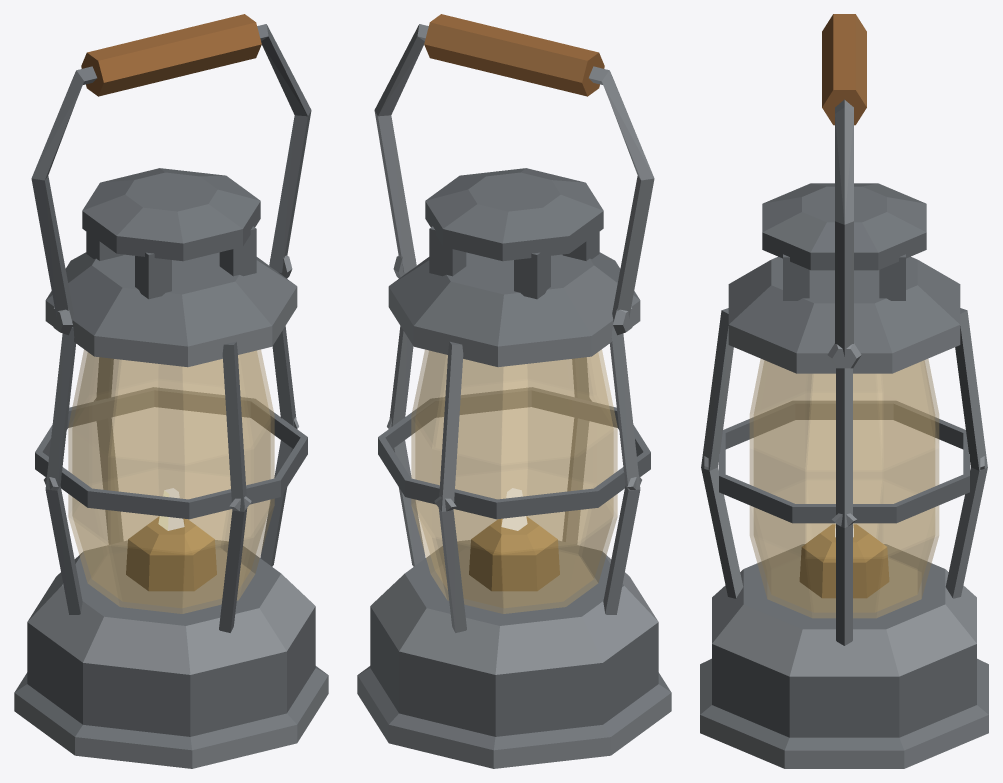
Rendered from Hand Lantern.glb.
3 renders of one model, left to right at view 1: azimuth 30°, elevation 25°; view 2: azimuth 150°, elevation 25°; view 3: azimuth 270°, elevation 25°, orthographic.
Visible parts, largest first — view 1: Hand Lantern.Static, Hand Lantern.Handle; view 2: Hand Lantern.Static, Hand Lantern.Handle; view 3: Hand Lantern.Static, Hand Lantern.Handle.
Boxes of the visible parts, x1,y1,x2,y2 form: Hand Lantern.Static: (14,168,328,768); Hand Lantern.Handle: (31,14,311,321); Hand Lantern.Static: (357,168,671,768); Hand Lantern.Handle: (374,14,654,321); Hand Lantern.Static: (700,183,988,768); Hand Lantern.Handle: (822,14,866,356).
Size of the model in its own units: 0.298 by 0.6762 by 0.2698.
